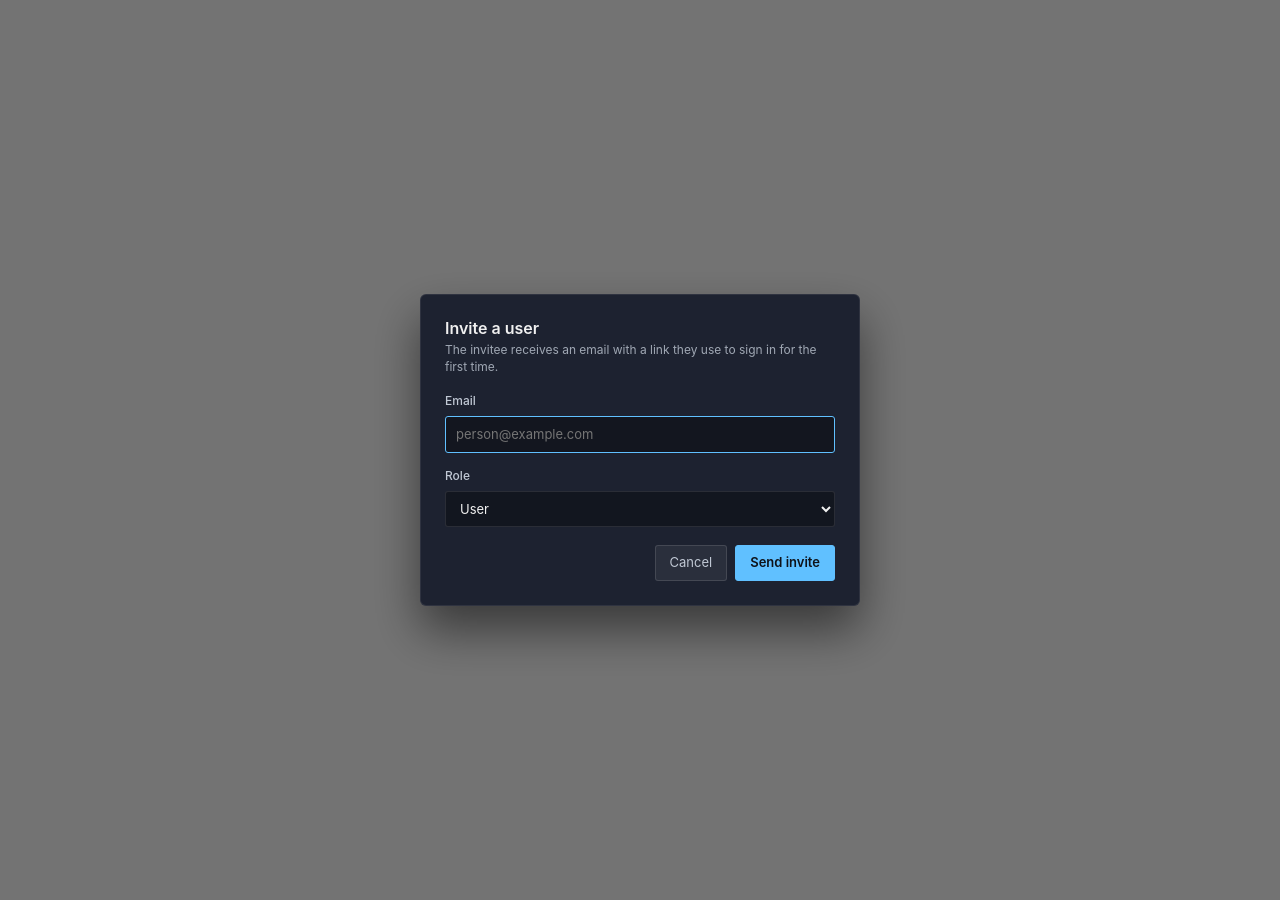
Test: InviteForm › shows submit error inline when the server rejects the request
Type "newperson@example.com" into the field with test id "invite-form-email".
click(640, 435); type("newperson@example.com")  # box x1=445 y1=416 x2=835 y2=453
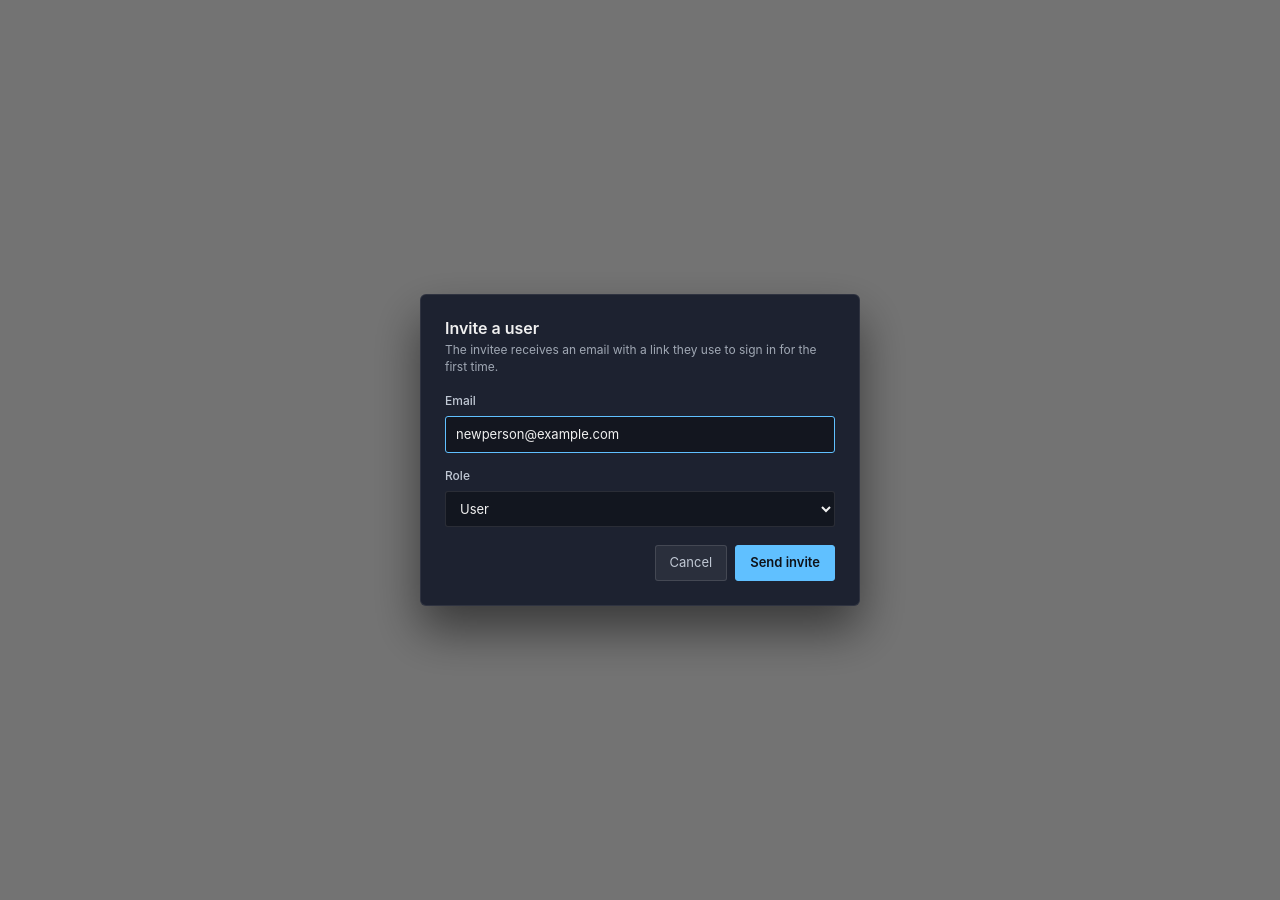
Click the button with test id "invite-form-submit".
click(785, 563)  # box x1=735 y1=545 x2=835 y2=581
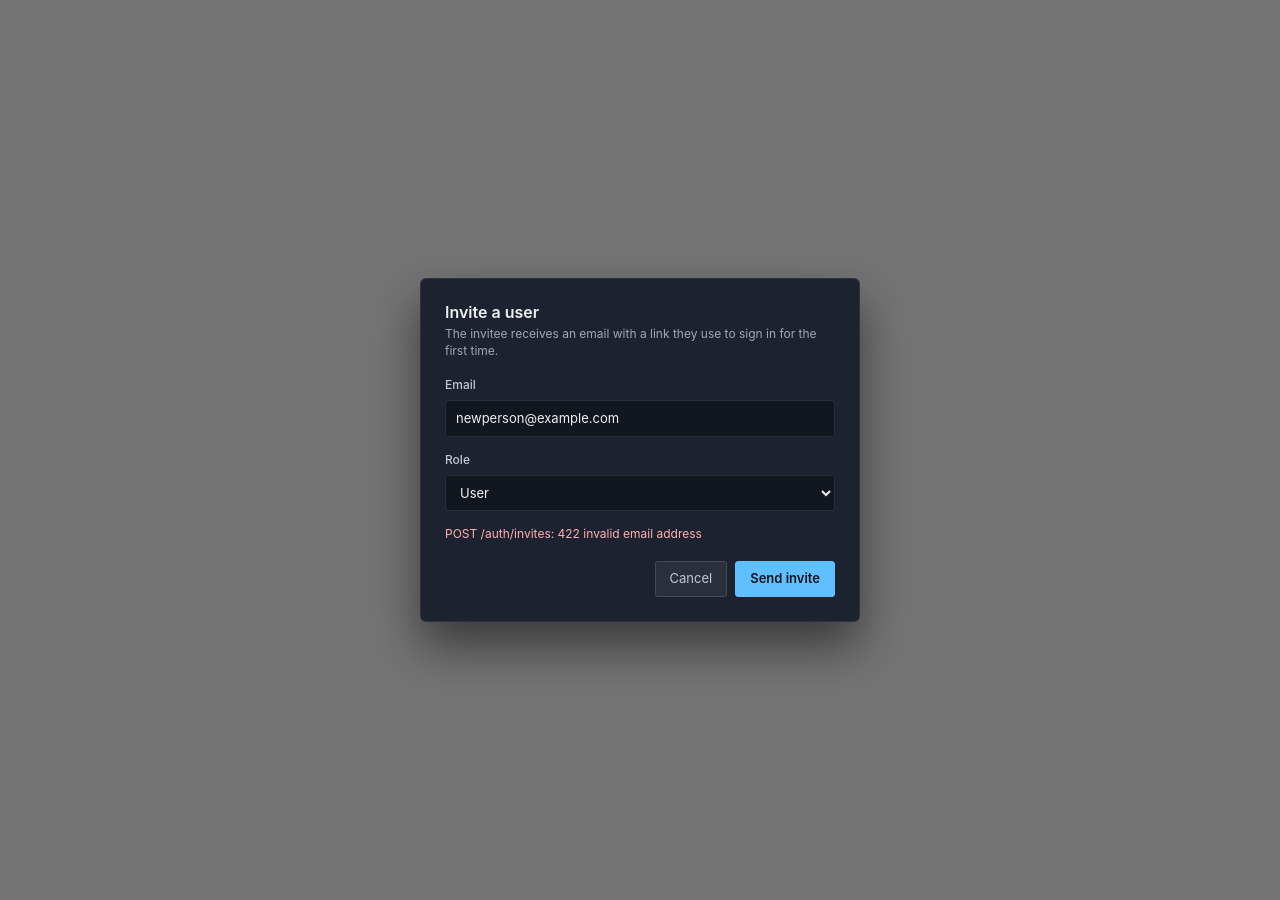
Now the text with test id "invite-form-submit-error" shows "invalid email", box x1=445 y1=526 x2=702 y2=541
